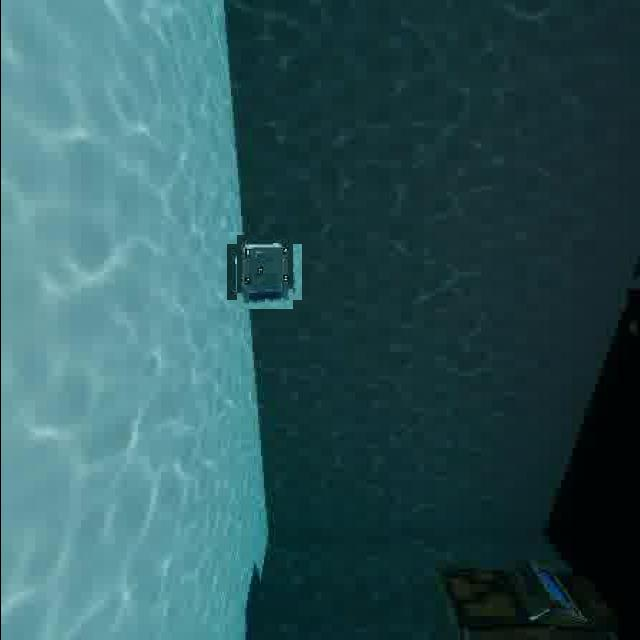Docking Station: (230, 240, 296, 304)
